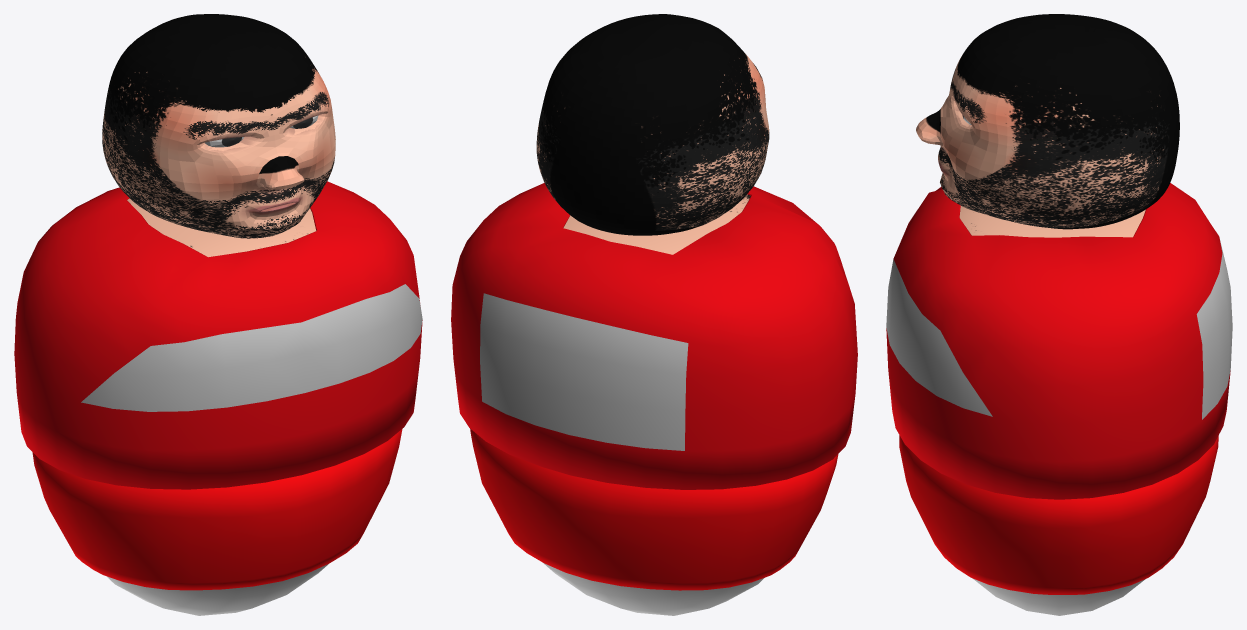
File: recep4.fbx
3 renders of one model, left to right at view 1: azimuth 30°, elevation 25°; view 2: azimuth 150°, elevation 25°; view 3: azimuth 270°, elevation 25°, orthographic.
Parts seen in each view (by area): view 1: tshirt.003, head.003, pant.003, body.004, body.003; view 2: tshirt.003, head.003, pant.003, body.004, body.003; view 3: tshirt.003, head.003, pant.003, body.003, body.004.
Boxes of the visible parts, x1=… form: tshirt.003: x1=14, y1=181, x2=422, y2=489; head.003: x1=102, y1=14, x2=335, y2=238; pant.003: x1=32, y1=429, x2=402, y2=590; body.004: x1=107, y1=564, x2=328, y2=615; body.003: x1=127, y1=198, x2=316, y2=257; tshirt.003: x1=451, y1=183, x2=857, y2=489; head.003: x1=536, y1=14, x2=769, y2=235; pant.003: x1=470, y1=428, x2=838, y2=590; body.004: x1=543, y1=563, x2=764, y2=615; body.003: x1=563, y1=194, x2=750, y2=254; tshirt.003: x1=886, y1=183, x2=1232, y2=499; head.003: x1=916, y1=14, x2=1179, y2=229; pant.003: x1=899, y1=435, x2=1218, y2=594; body.003: x1=959, y1=206, x2=1145, y2=237; body.004: x1=972, y1=578, x2=1145, y2=615.
Bounding box in the file's own units: 187 × 151 × 277.
